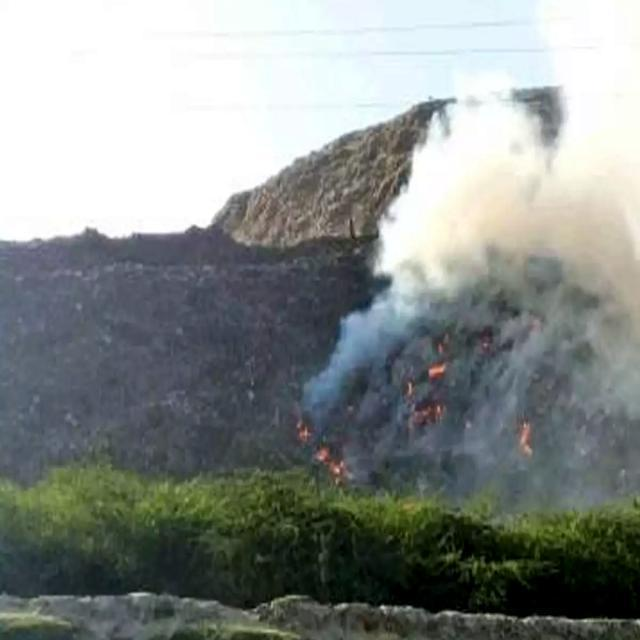Smoke: (317, 24, 640, 462)
